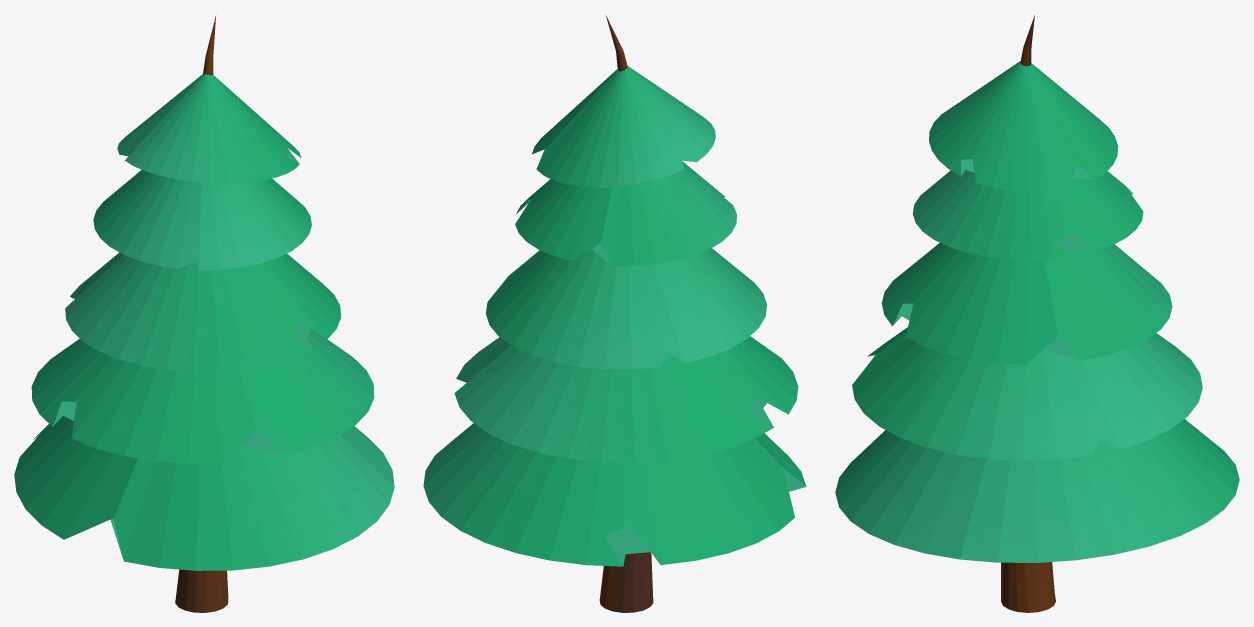
File: Tree2.fbx
3 views of the same model, side by side, from view 1: azimuth 30°, elevation 25°; view 2: azimuth 150°, elevation 25°; view 3: azimuth 270°, elevation 25° (orthographic). The views are drawn at different scales.
Parts seen in each view (by area): view 1: Pinetree_LOD0; view 2: Pinetree_LOD0; view 3: Pinetree_LOD0.
Part boxes in pixels (x1,y1,x2,y2): Pinetree_LOD0: (14, 14, 394, 612); Pinetree_LOD0: (423, 15, 806, 612); Pinetree_LOD0: (835, 15, 1239, 612).
Size of what is drawn, in the model's own units: 302 by 516 by 317.
